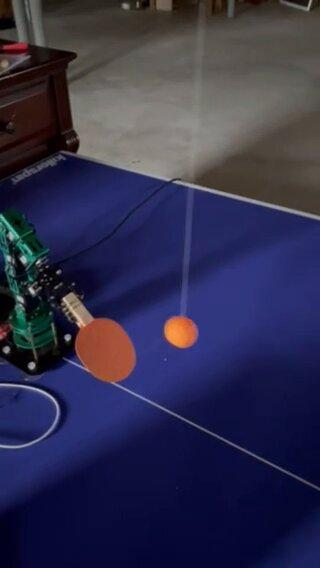oball: (165, 317, 199, 348)
